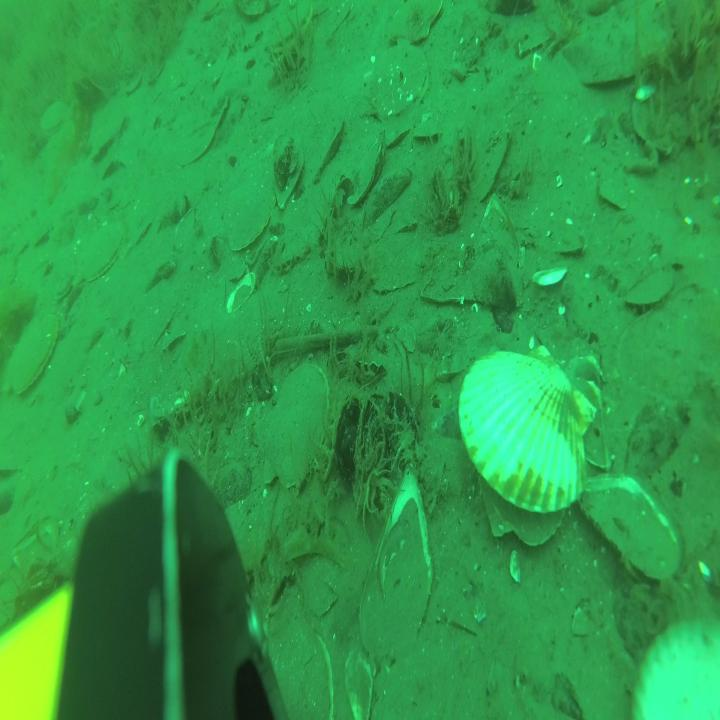scallop: (460, 341, 597, 558), (255, 364, 332, 491), (370, 38, 431, 126), (4, 314, 61, 406), (225, 170, 281, 260), (76, 211, 125, 286), (341, 130, 386, 205), (624, 264, 674, 312), (312, 116, 344, 188), (89, 106, 126, 161), (47, 258, 74, 304), (415, 114, 440, 148), (386, 116, 410, 147)
